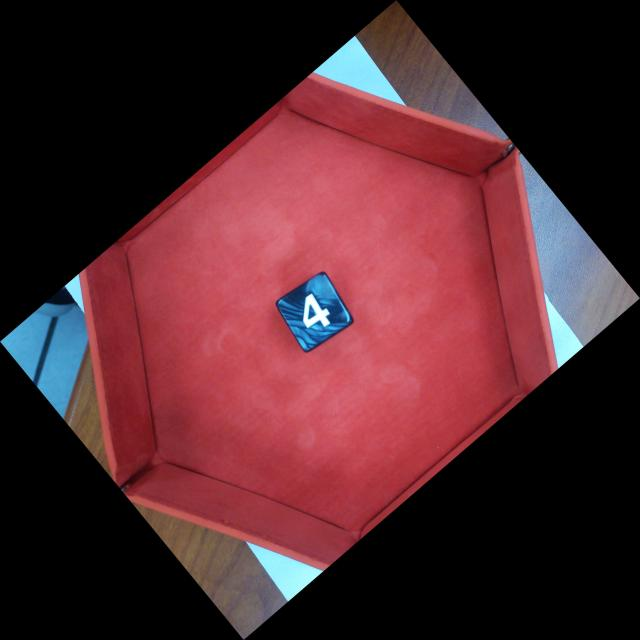dice: (281, 273, 358, 355)
